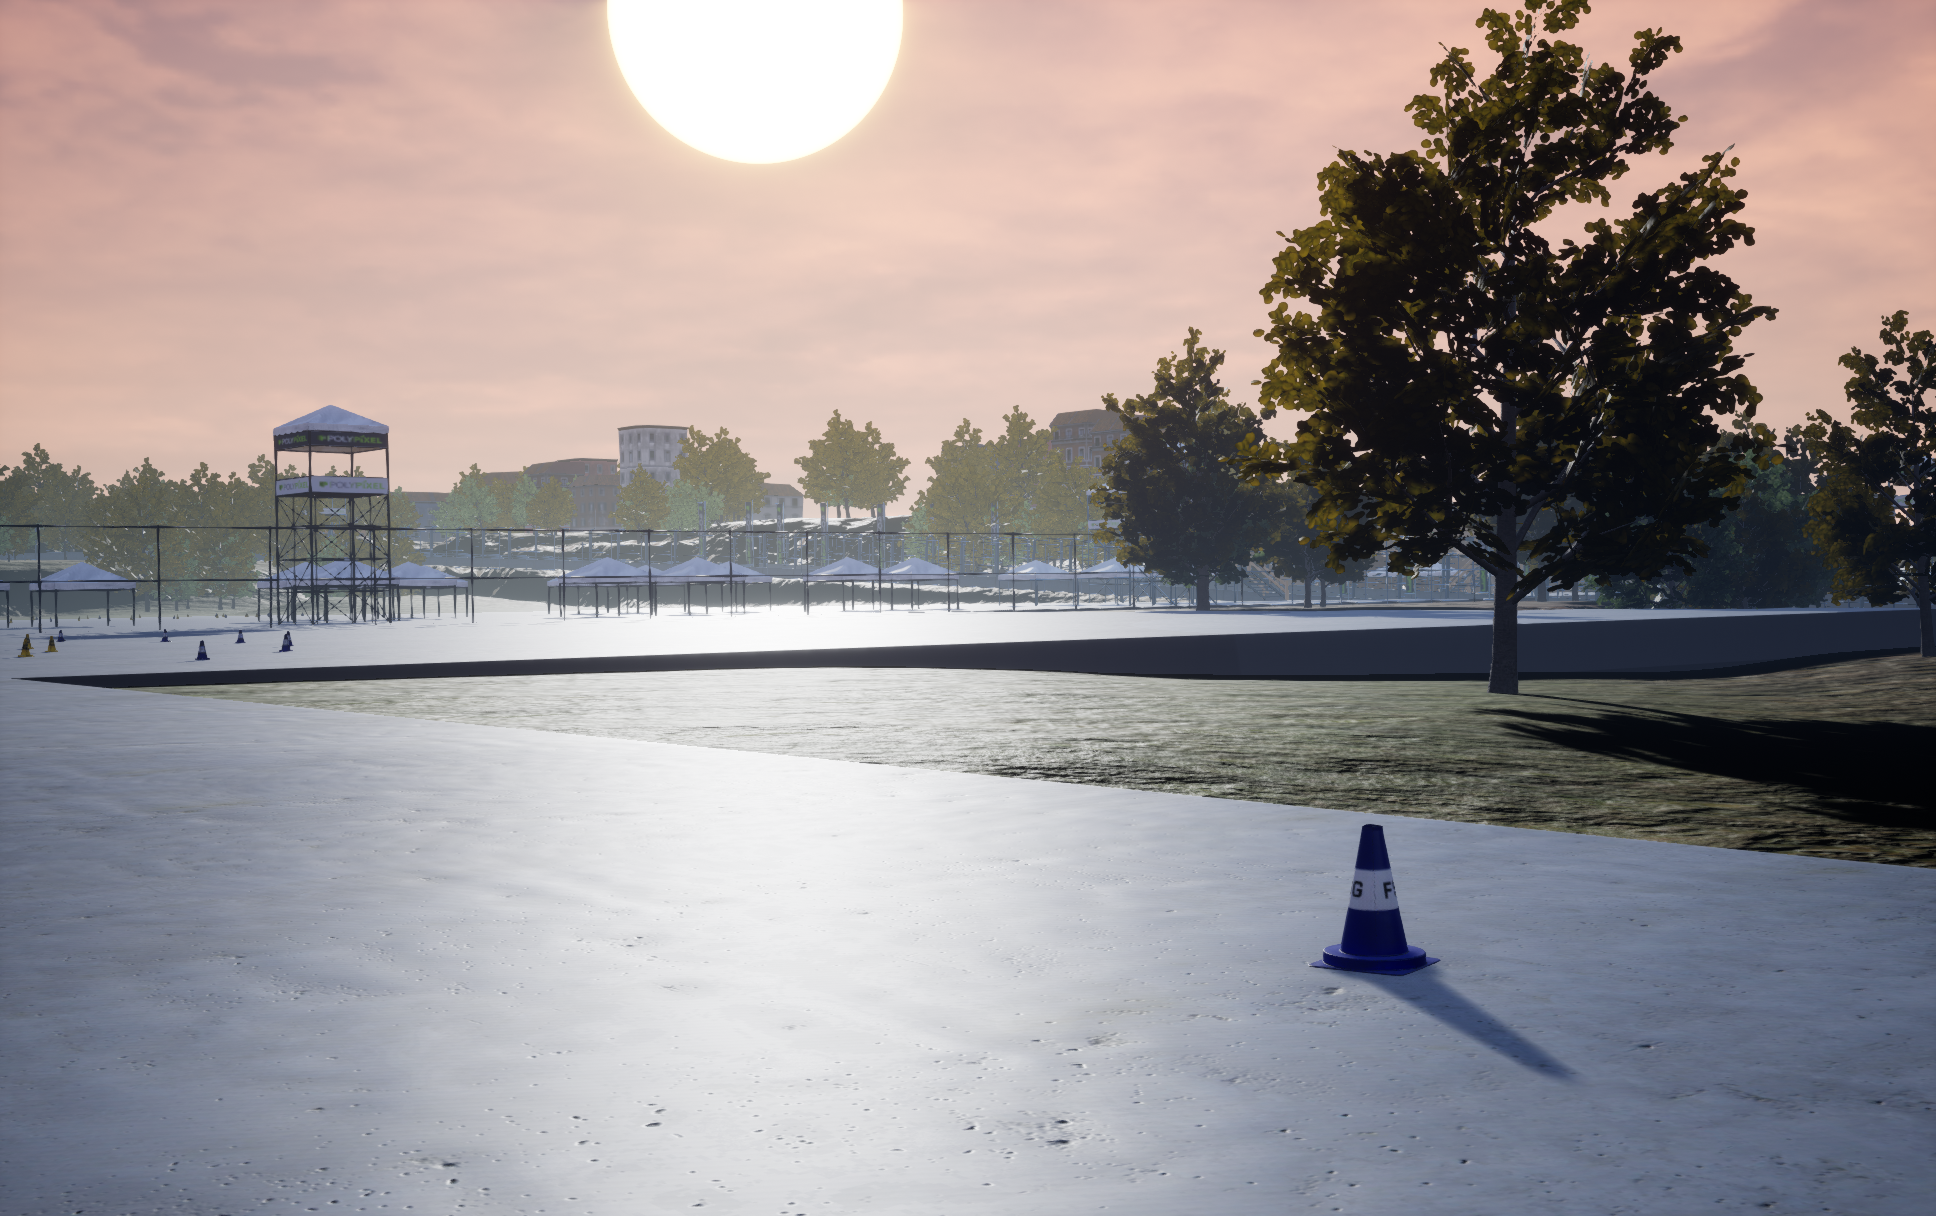yellow: (1308, 824, 1440, 975), (195, 640, 209, 658)
